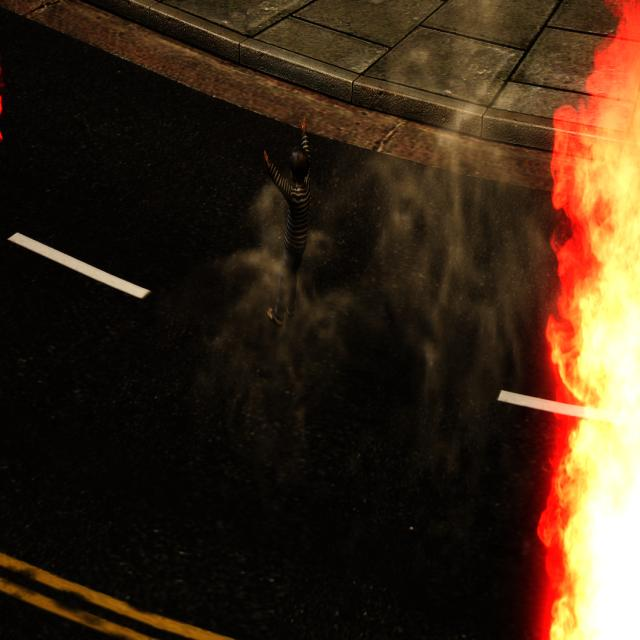Human: (262, 113, 314, 338)
